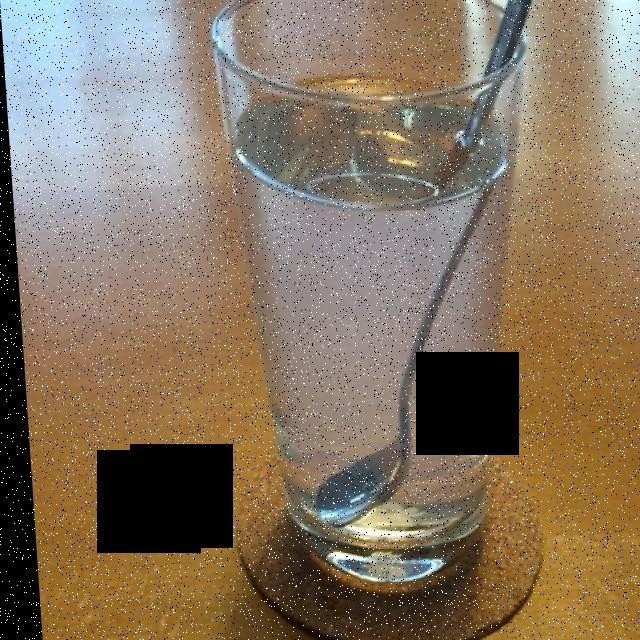water: (231, 109, 518, 549)
